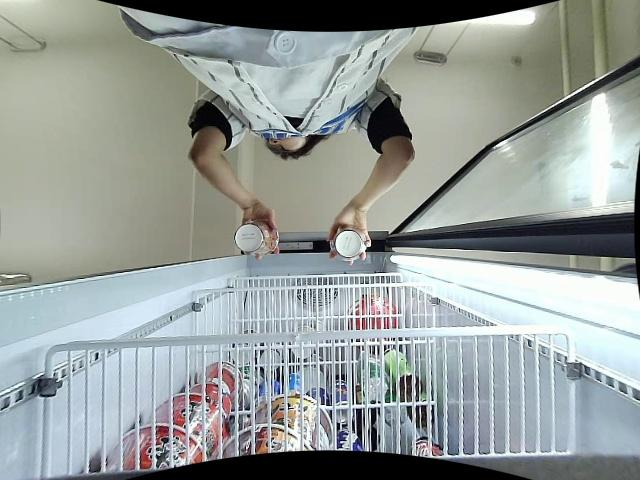00_hand: (325, 203, 372, 265), (242, 203, 279, 262)
06_nuguri_S: (235, 221, 279, 257), (327, 225, 367, 261)
